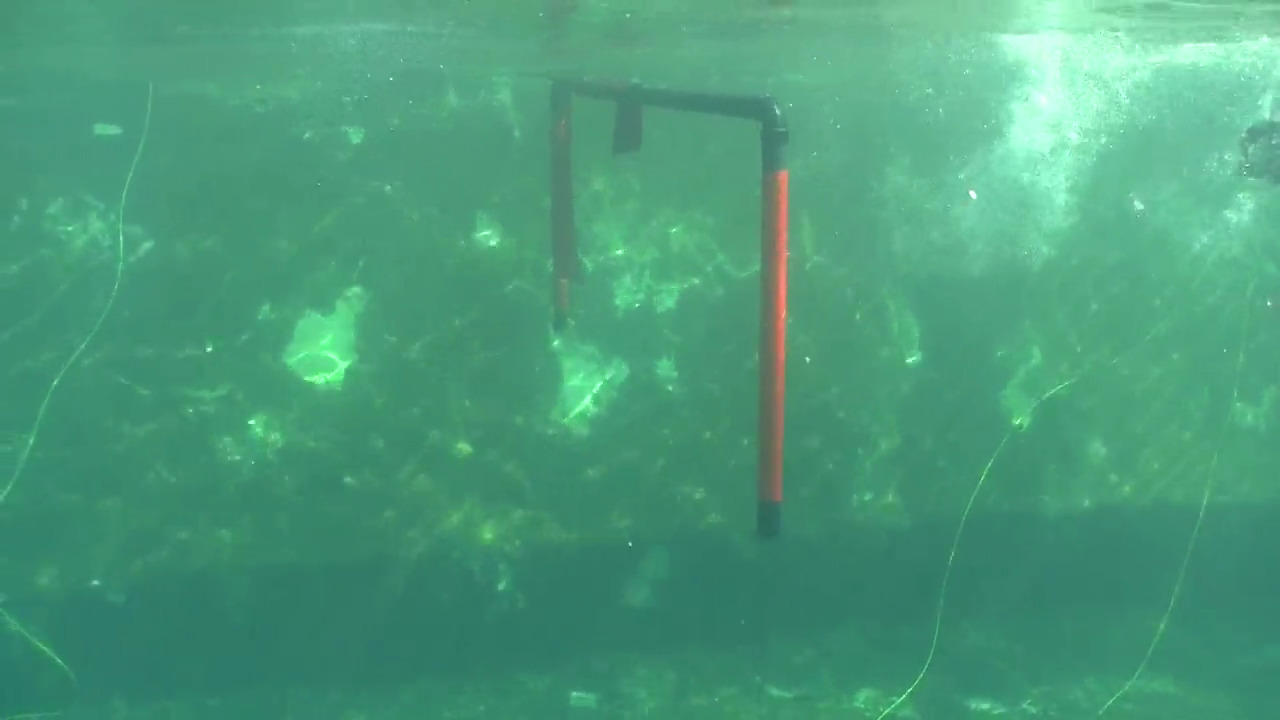gate: (534, 65, 804, 562)
